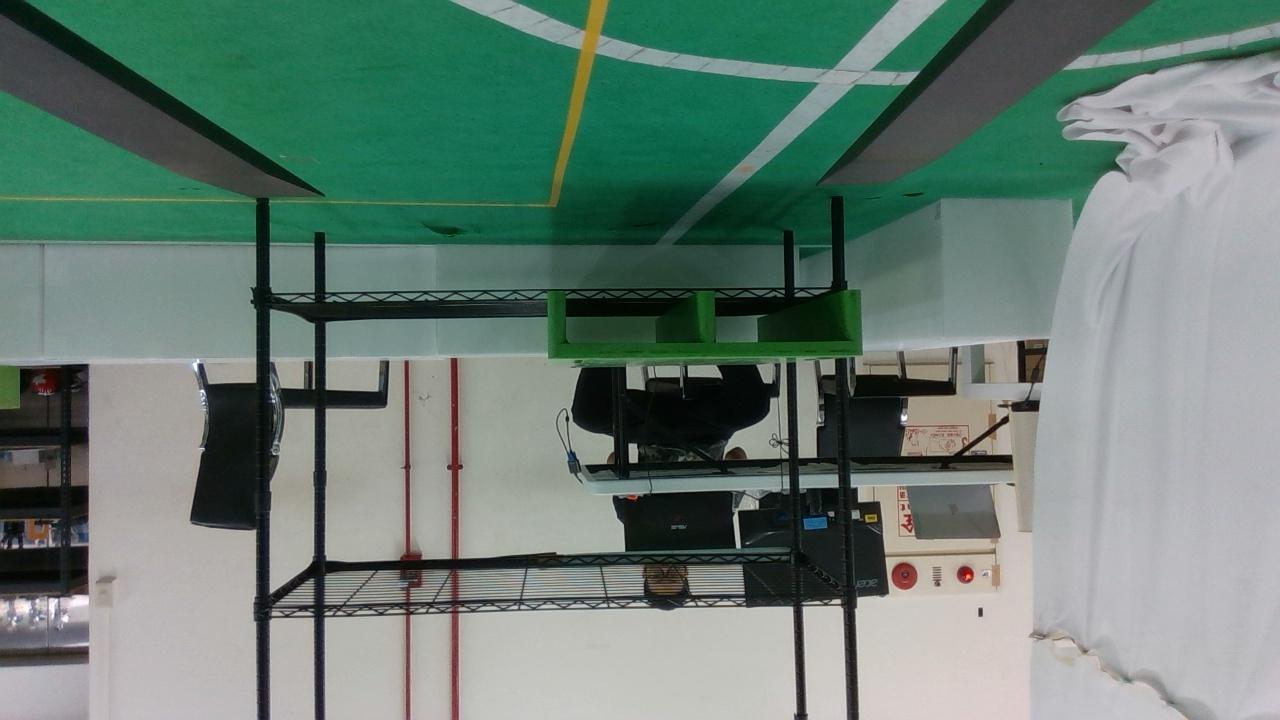Pallet: (547, 288, 863, 362)
